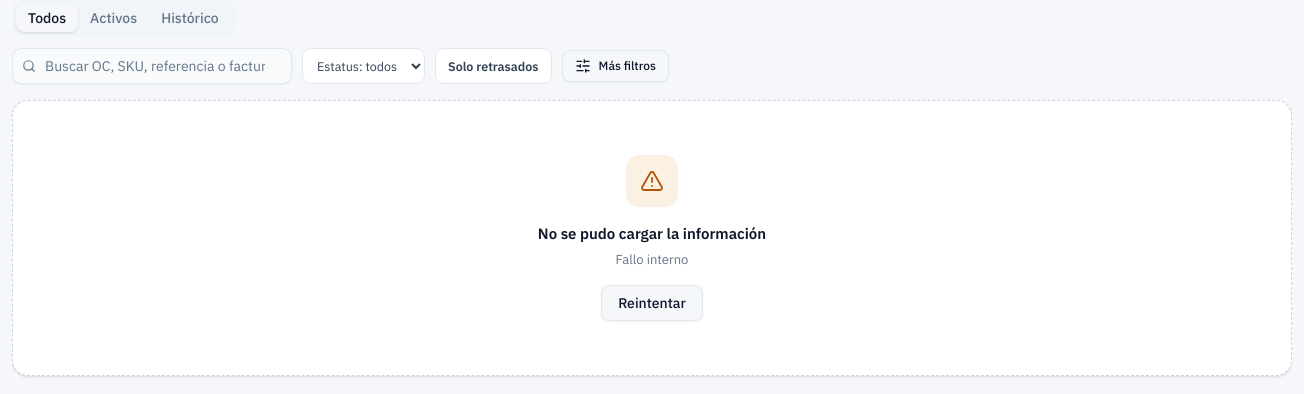
Scenario: EmbarquesView › error (sin data previa): EstadoError con el mensaje del contrato y reintenta al hacer click
Expected: the text "No se pudo cargar la información" is shown, [538, 223, 766, 246]
Expected: the text "Fallo interno" is shown, [616, 250, 688, 268]
Click the button "Reintentar" at (652, 303), box [601, 285, 703, 321]
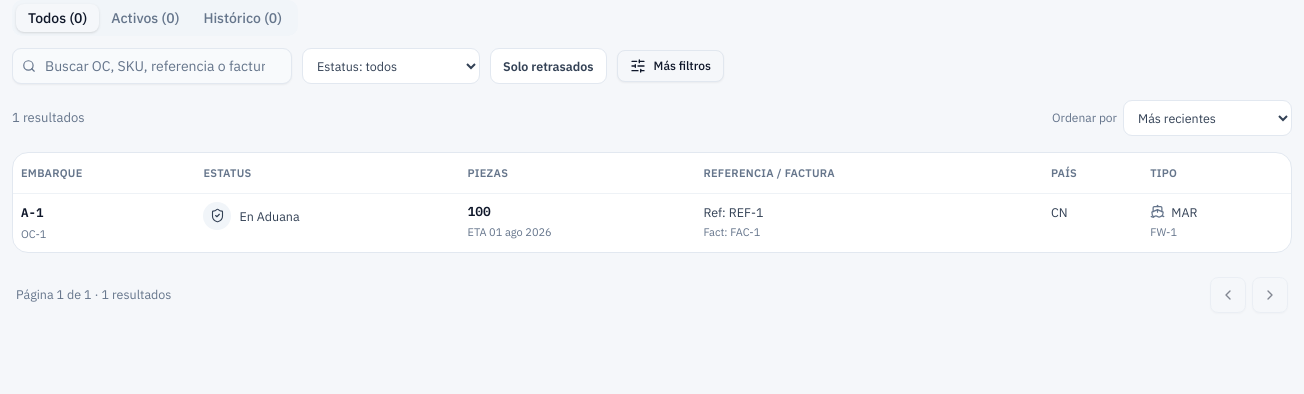
Now the link "A-1" is shown, box [21, 202, 44, 222]
